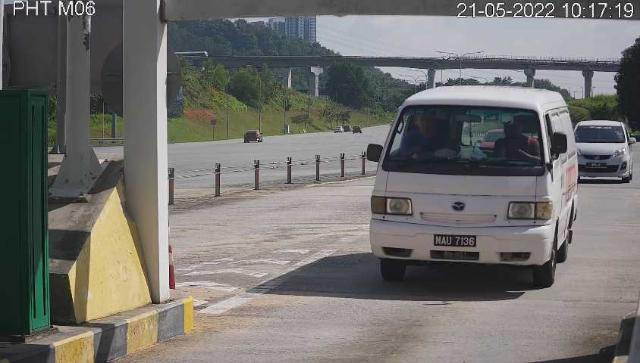License_Plate: (434, 234, 479, 251)
van: (372, 87, 579, 289)
